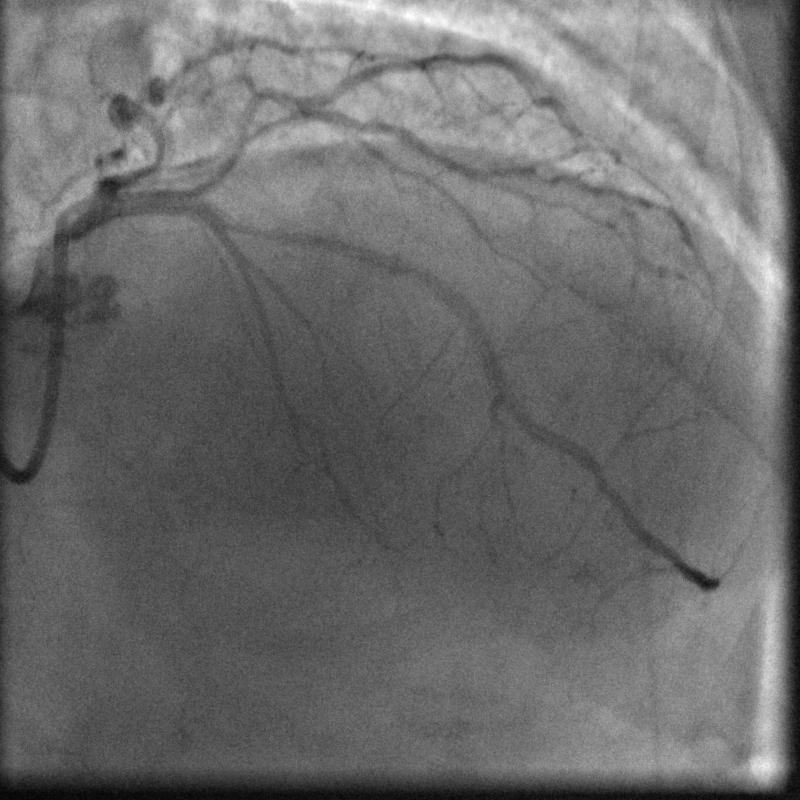Stenosis: (239, 208, 323, 254)
